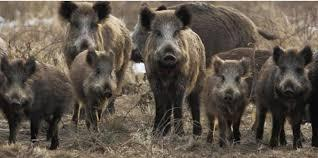wildboar: (139, 3, 207, 137), (58, 0, 133, 113), (0, 51, 69, 149), (254, 42, 314, 149), (201, 55, 254, 148), (70, 46, 118, 134)
